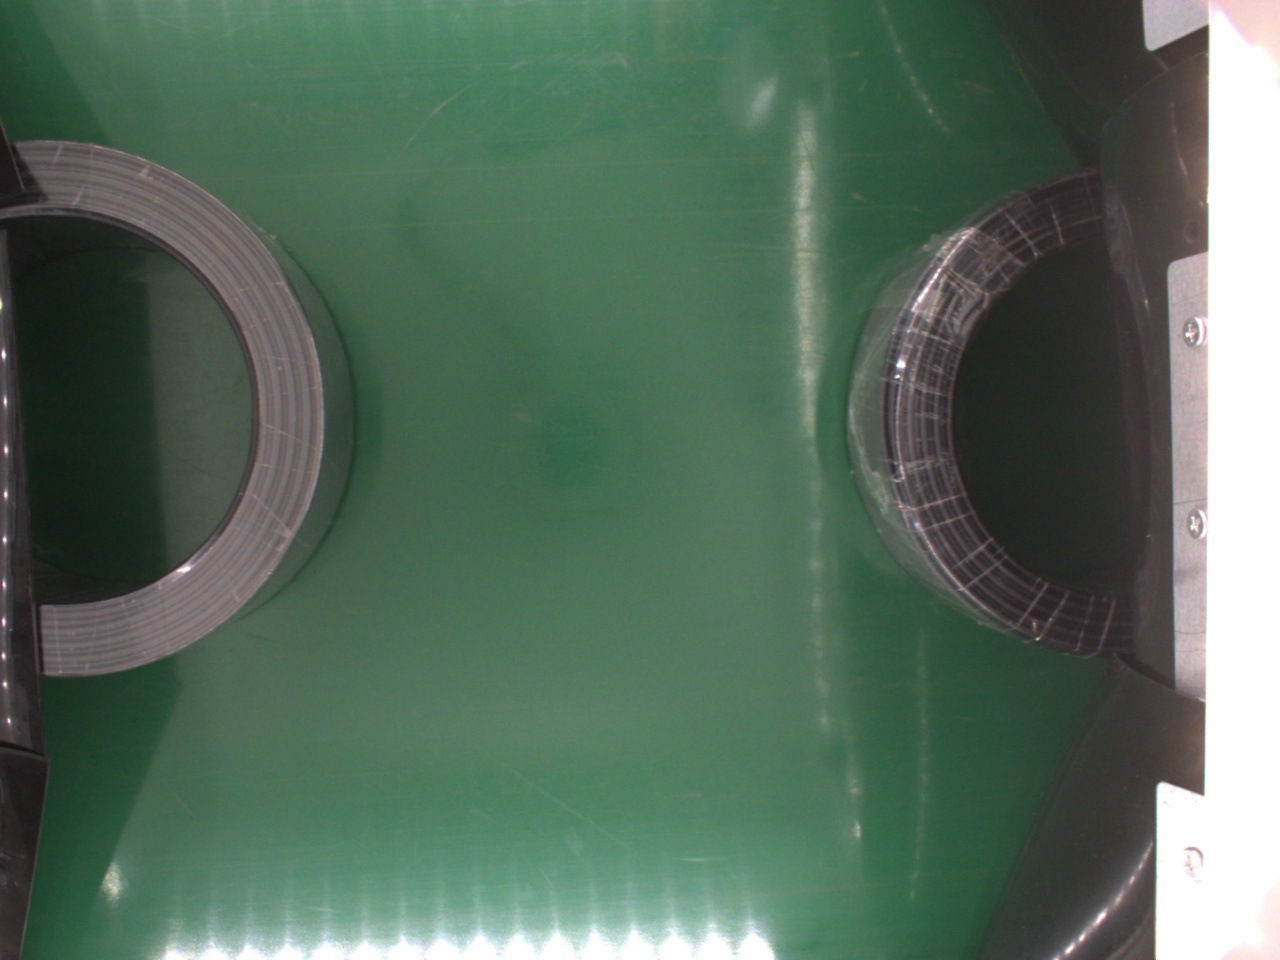black: (12, 135, 356, 690), (845, 167, 1131, 659)
